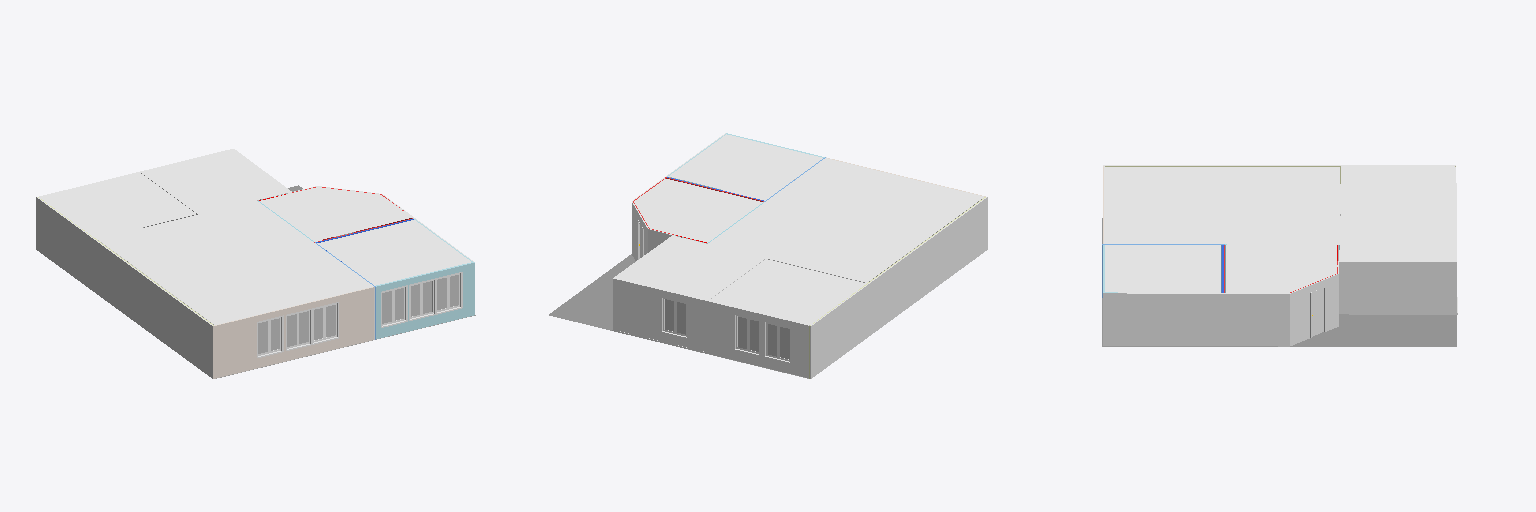
3 views of the same model, side by side, from view 1: azimuth 30°, elevation 25°; view 2: azimuth 150°, elevation 25°; view 3: azimuth 270°, elevation 25° (orthographic).
Visible parts, largest first — view 1: room_26_172, wall_1_5, room_24_169, wall_9_63, room_28_176, room_23_167, room_27_174, room_25_171, wall_10_70, room_29_178; view 2: room_26_172, wall_1_5, room_24_169, room_28_176, room_23_167, room_27_174, wall_21_156, wall_22_163, room_25_171, ground_1, room_29_178; view 3: room_26_172, wall_13_93, wall_3_19, room_24_169, room_28_176, room_23_167, room_27_174, ground_1, wall_14_100, room_25_171, wall_6_41, room_29_178.
Boxes of the visible parts, x1=… form: room_26_172: x1=129, y1=223, x2=371, y2=324; wall_1_5: x1=36, y1=197, x2=212, y2=378; room_24_169: x1=39, y1=173, x2=195, y2=238; wall_9_63: x1=213, y1=287, x2=373, y2=378; room_28_176: x1=317, y1=220, x2=470, y2=285; room_23_167: x1=142, y1=149, x2=289, y2=213; room_27_174: x1=260, y1=187, x2=412, y2=241; room_25_171: x1=149, y1=201, x2=285, y2=248; wall_10_70: x1=376, y1=263, x2=474, y2=338; room_29_178: x1=99, y1=228, x2=174, y2=260; room_26_172: x1=740, y1=159, x2=983, y2=259; wall_1_5: x1=810, y1=197, x2=987, y2=378; room_24_169: x1=709, y1=259, x2=866, y2=324; room_28_176: x1=668, y1=134, x2=822, y2=199; room_23_167: x1=616, y1=236, x2=765, y2=299; room_27_174: x1=634, y1=178, x2=762, y2=242; wall_21_156: x1=613, y1=279, x2=705, y2=351; wall_22_163: x1=706, y1=301, x2=808, y2=377; room_25_171: x1=710, y1=222, x2=848, y2=269; ground_1: x1=549, y1=237, x2=929, y2=378; room_29_178: x1=820, y1=249, x2=895, y2=281; room_26_172: x1=1105, y1=167, x2=1276, y2=243; wall_13_93: x1=1103, y1=293, x2=1222, y2=345; wall_3_19: x1=1339, y1=262, x2=1456, y2=314; room_24_169: x1=1341, y1=166, x2=1454, y2=215; room_28_176: x1=1105, y1=245, x2=1220, y2=292; room_23_167: x1=1339, y1=216, x2=1456, y2=261; room_27_174: x1=1226, y1=245, x2=1337, y2=292; ground_1: x1=1102, y1=218, x2=1456, y2=346; wall_14_100: x1=1223, y1=294, x2=1289, y2=346; room_25_171: x1=1280, y1=191, x2=1337, y2=243; wall_6_41: x1=1290, y1=274, x2=1338, y2=345; room_29_178: x1=1280, y1=167, x2=1337, y2=189.
Bounding box in the file's own units: 1304 × 250 × 1527.